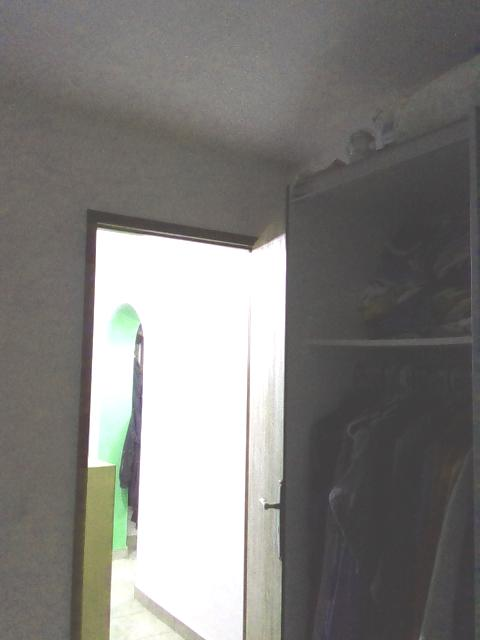open_door: (72, 206, 266, 638)
